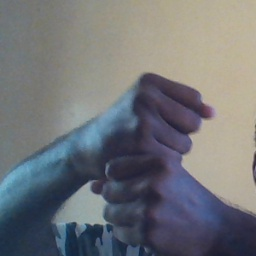G: (92, 70, 217, 244)
